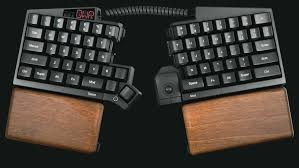keyboard: (22, 9, 117, 98), (169, 22, 280, 93)
